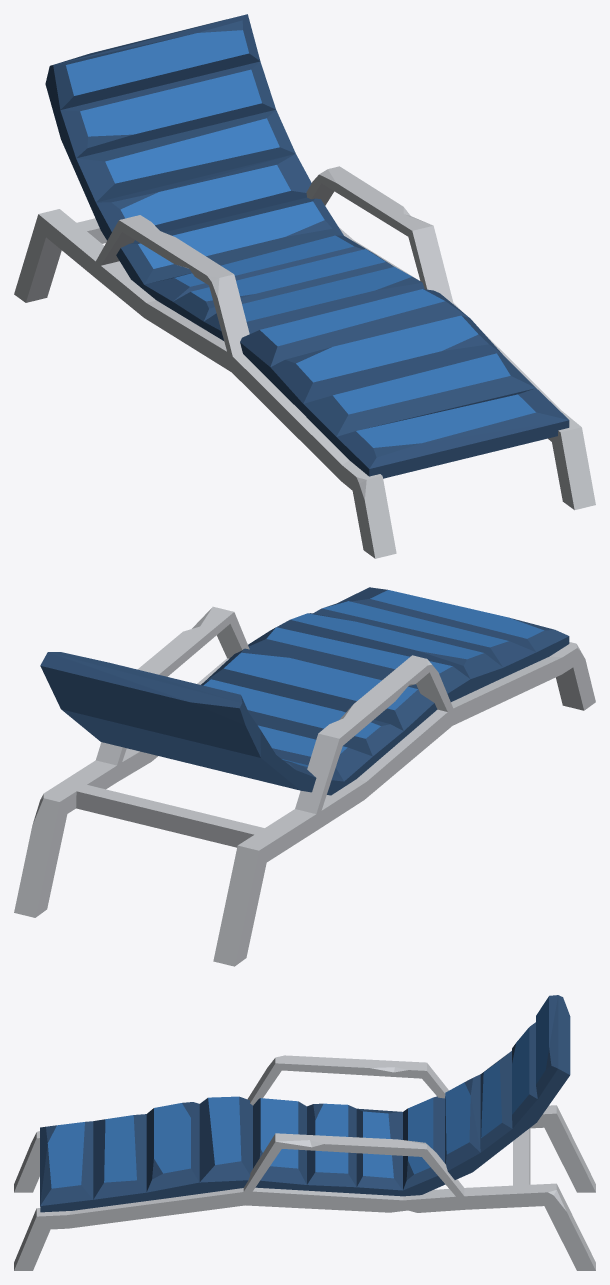
The model's file is SM_Prop_Deckchair_03.fbx.
The picture shows the model from 3 angles, top to bottom: view 1: azimuth 30°, elevation 25°; view 2: azimuth 150°, elevation 25°; view 3: azimuth 270°, elevation 25°; orthographic projection. The views are drawn at different scales.
Parts seen in each view (by area): view 1: SM_Prop_Deckchair_03; view 2: SM_Prop_Deckchair_03; view 3: SM_Prop_Deckchair_03.
Part boxes in pixels (bbox=[...]): SM_Prop_Deckchair_03: bbox=[14, 14, 595, 558]; SM_Prop_Deckchair_03: bbox=[14, 587, 595, 966]; SM_Prop_Deckchair_03: bbox=[14, 995, 595, 1270].
Bounding box in the file's own units: 83.44 × 88.94 × 237.
